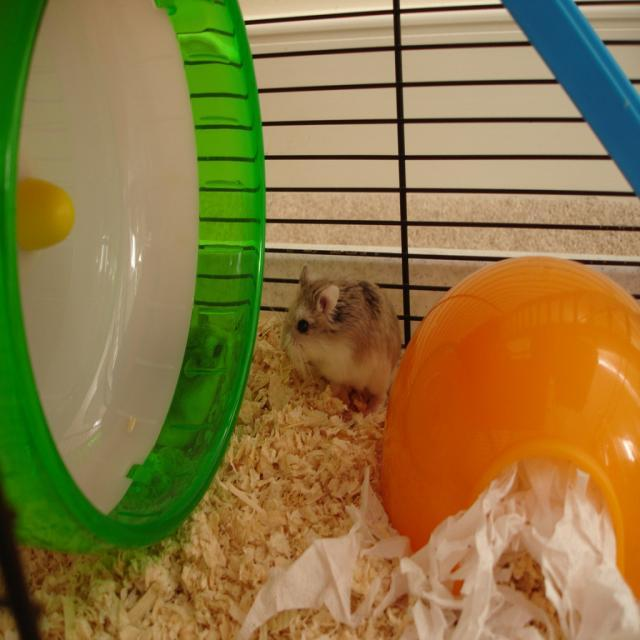rat: (282, 266, 403, 413)
